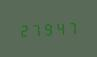four: (54, 19, 65, 36)
nine: (42, 20, 53, 36)
seven: (30, 20, 41, 37), (66, 19, 77, 35)
two: (18, 21, 29, 37)
